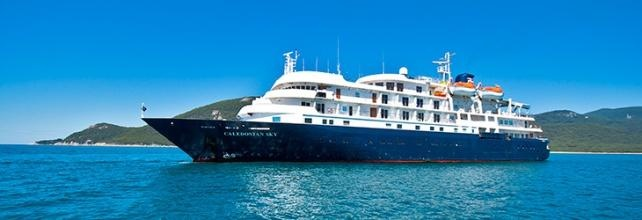youlun: (130, 47, 579, 163)
